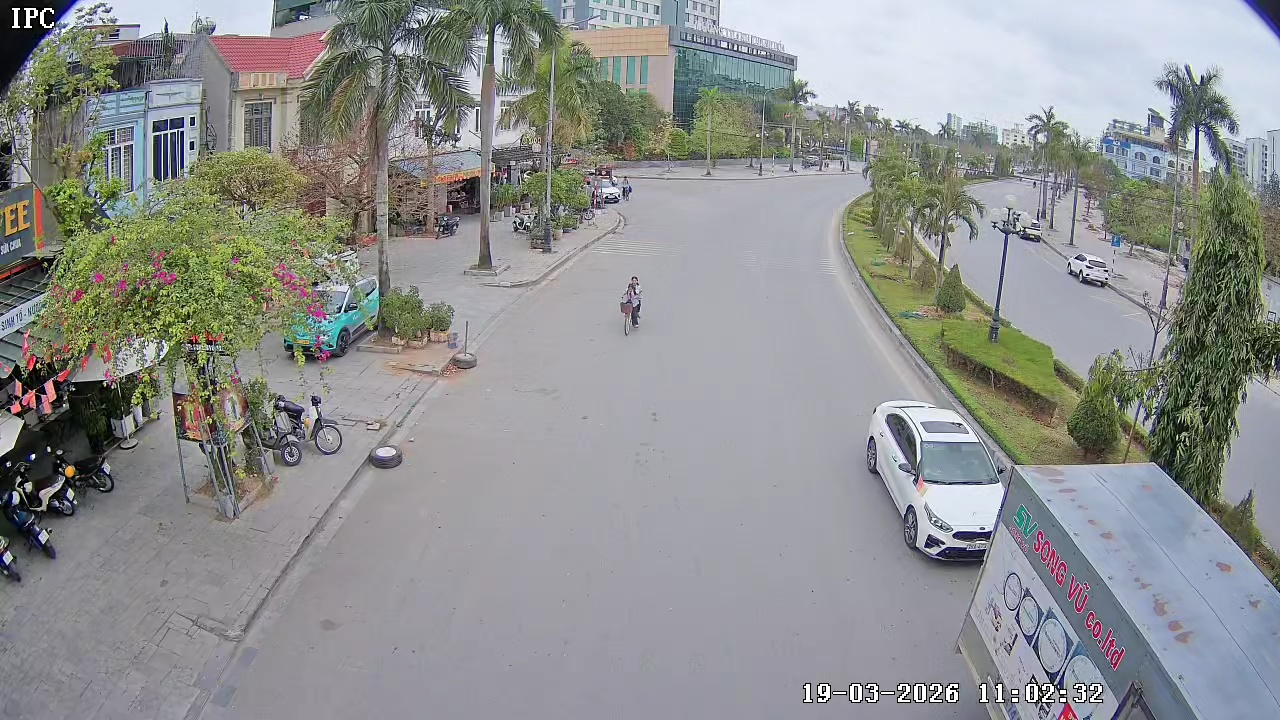bike: (272, 386, 345, 457), (263, 389, 305, 464), (617, 274, 645, 336)
car: (955, 461, 1278, 719), (867, 401, 1012, 561), (1066, 251, 1114, 289)
motorbike: (0, 526, 24, 585)
